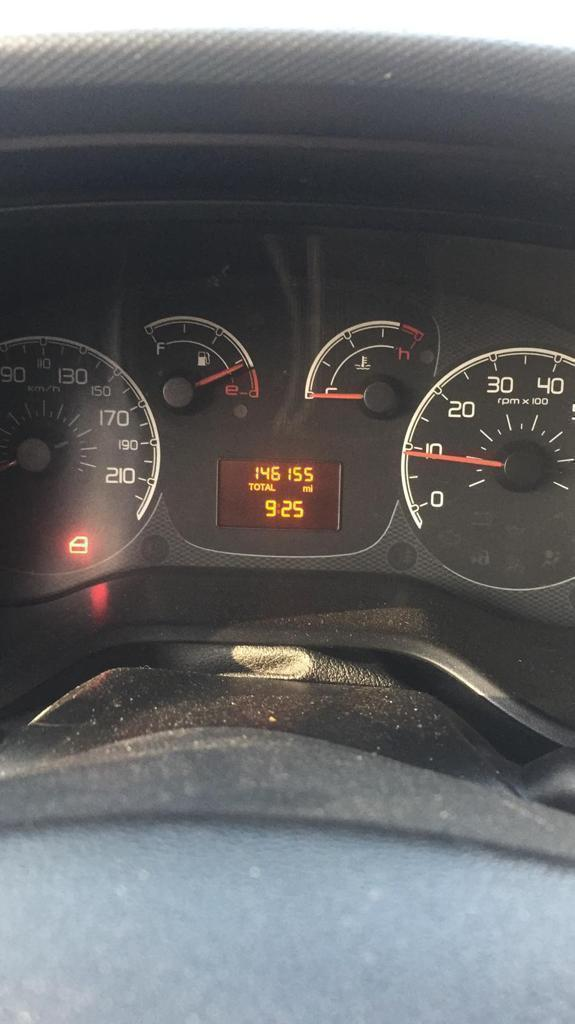1: (254, 465, 259, 480), (287, 466, 291, 481)
2: (281, 499, 292, 518)
4: (260, 465, 270, 480)
5: (292, 500, 304, 518), (303, 466, 313, 482), (292, 466, 302, 481)
6: (270, 464, 281, 481)
9: (264, 499, 276, 517)
X: (247, 482, 253, 491), (253, 482, 259, 491), (276, 502, 280, 515), (303, 485, 310, 492), (270, 483, 276, 491), (260, 482, 265, 491), (265, 483, 270, 490), (310, 484, 313, 492)
odometer: (214, 454, 344, 533)
